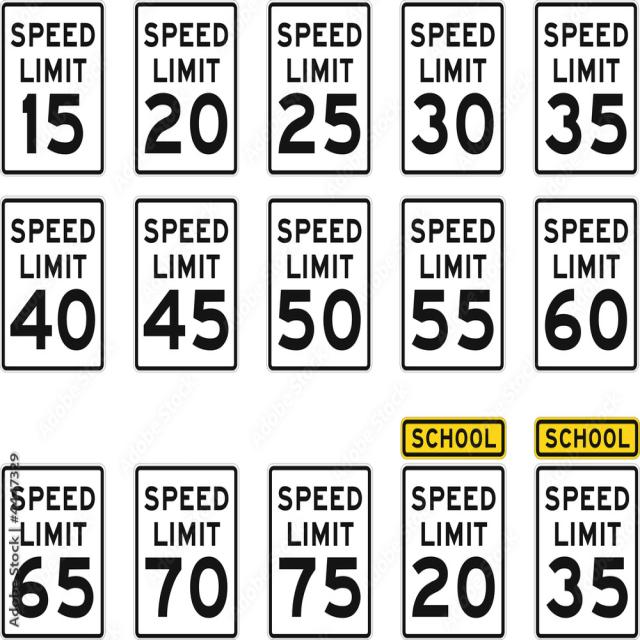speedLimit15: (1, 8, 106, 173)
speedLimit20: (402, 466, 504, 638), (135, 8, 239, 173)
speedLimit25: (266, 5, 371, 175)
speedLimit30: (400, 4, 504, 180)
speedLimit35: (535, 465, 637, 637), (532, 5, 634, 175)
speedLimit40: (1, 195, 106, 380)
speedLimit45: (128, 194, 244, 380)
speedLimit50: (262, 189, 374, 379)
speedLimit55: (402, 200, 503, 375)
speedLimit60: (532, 194, 636, 375)
speedLimit65: (3, 464, 102, 634)
speedLimit70: (133, 450, 239, 630)
speedLimit75: (268, 450, 370, 631)
